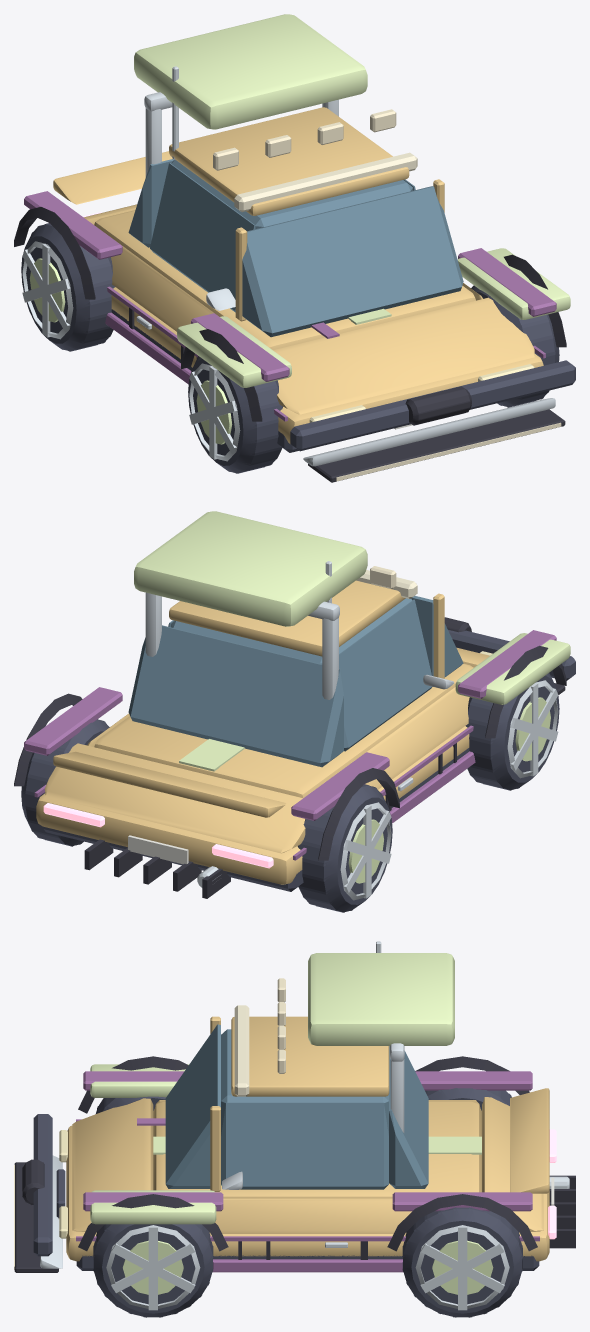
File: badlands_buggy.fbx
3 views of the same model, one above another, from view 1: azimuth 30°, elevation 25°; view 2: azimuth 150°, elevation 25°; view 3: azimuth 270°, elevation 25° (orthographic). The views are drawn at different scales.
Parts seen in each view (by area): view 1: Body, Glass, Accent3, Trim, Accent, Trim2, Accent2, Wheel_RR, Metal, Wheel_FR, Light, Light5 (+3 smaller); view 2: Body, Glass, Accent3, Accent, Trim, Metal, Wheel_RR, Wheel_FR, Accent2, Wheel_RL, Trim2, Metal2 (+4 smaller); view 3: Body, Glass, Accent3, Accent, Trim, Metal, Wheel_RL, Wheel_FL, Trim2, Metal2, Accent2, Light5 (+6 smaller).
Boxes of the visible parts, x1,y1,x2,y2 form: Body: (53, 107, 543, 443); Glass: (128, 159, 463, 337); Accent3: (134, 14, 570, 387); Trim: (14, 207, 566, 482); Accent: (24, 191, 556, 421); Trim2: (111, 309, 575, 452); Accent2: (144, 66, 555, 466); Wheel_RR: (21, 223, 114, 351); Metal: (22, 241, 240, 461); Wheel_FR: (188, 356, 282, 473); Light: (213, 109, 561, 481); Light5: (234, 152, 417, 212); Body: (36, 580, 489, 884); Glass: (128, 596, 463, 767); Accent3: (134, 511, 570, 704); Accent: (24, 630, 556, 860); Trim: (14, 617, 566, 898); Metal: (197, 680, 558, 900); Wheel_RR: (297, 784, 392, 912); Wheel_FR: (465, 673, 559, 790); Accent2: (145, 561, 454, 699); Wheel_RL: (21, 719, 109, 846); Trim2: (41, 630, 575, 891); Metal2: (348, 697, 550, 883); Body: (66, 1016, 549, 1261); Glass: (165, 1024, 428, 1189); Accent3: (90, 953, 454, 1224); Accent: (76, 1071, 539, 1272); Trim: (14, 1056, 575, 1272); Metal: (106, 1176, 569, 1310); Wheel_RL: (402, 1207, 522, 1317); Wheel_FL: (93, 1224, 213, 1317); Trim2: (33, 1114, 539, 1270); Metal2: (122, 1240, 493, 1294); Accent2: (40, 941, 404, 1268); Light5: (234, 1005, 249, 1096).
Size of the model in its own units: 3.36 by 2.87 by 5.35.
